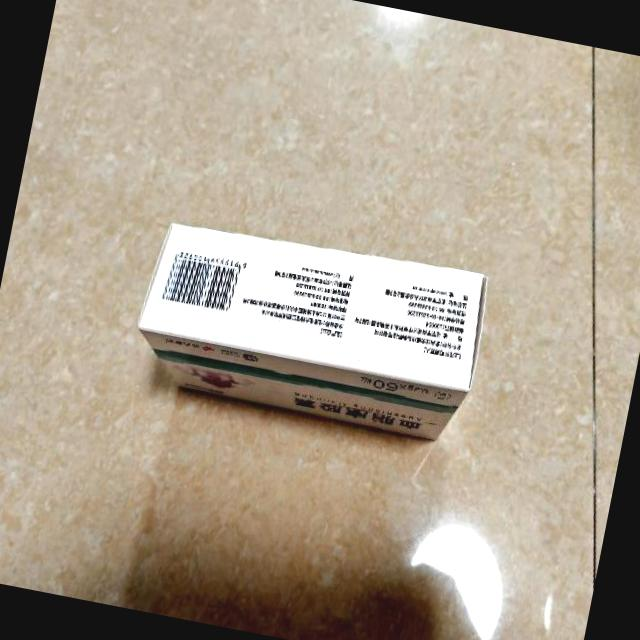box: (127, 210, 492, 442)
